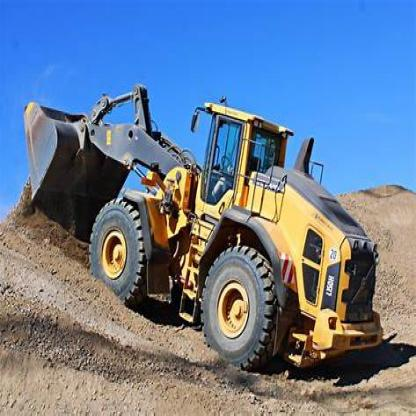bull_dozer/loader/grader: (21, 66, 389, 395)
